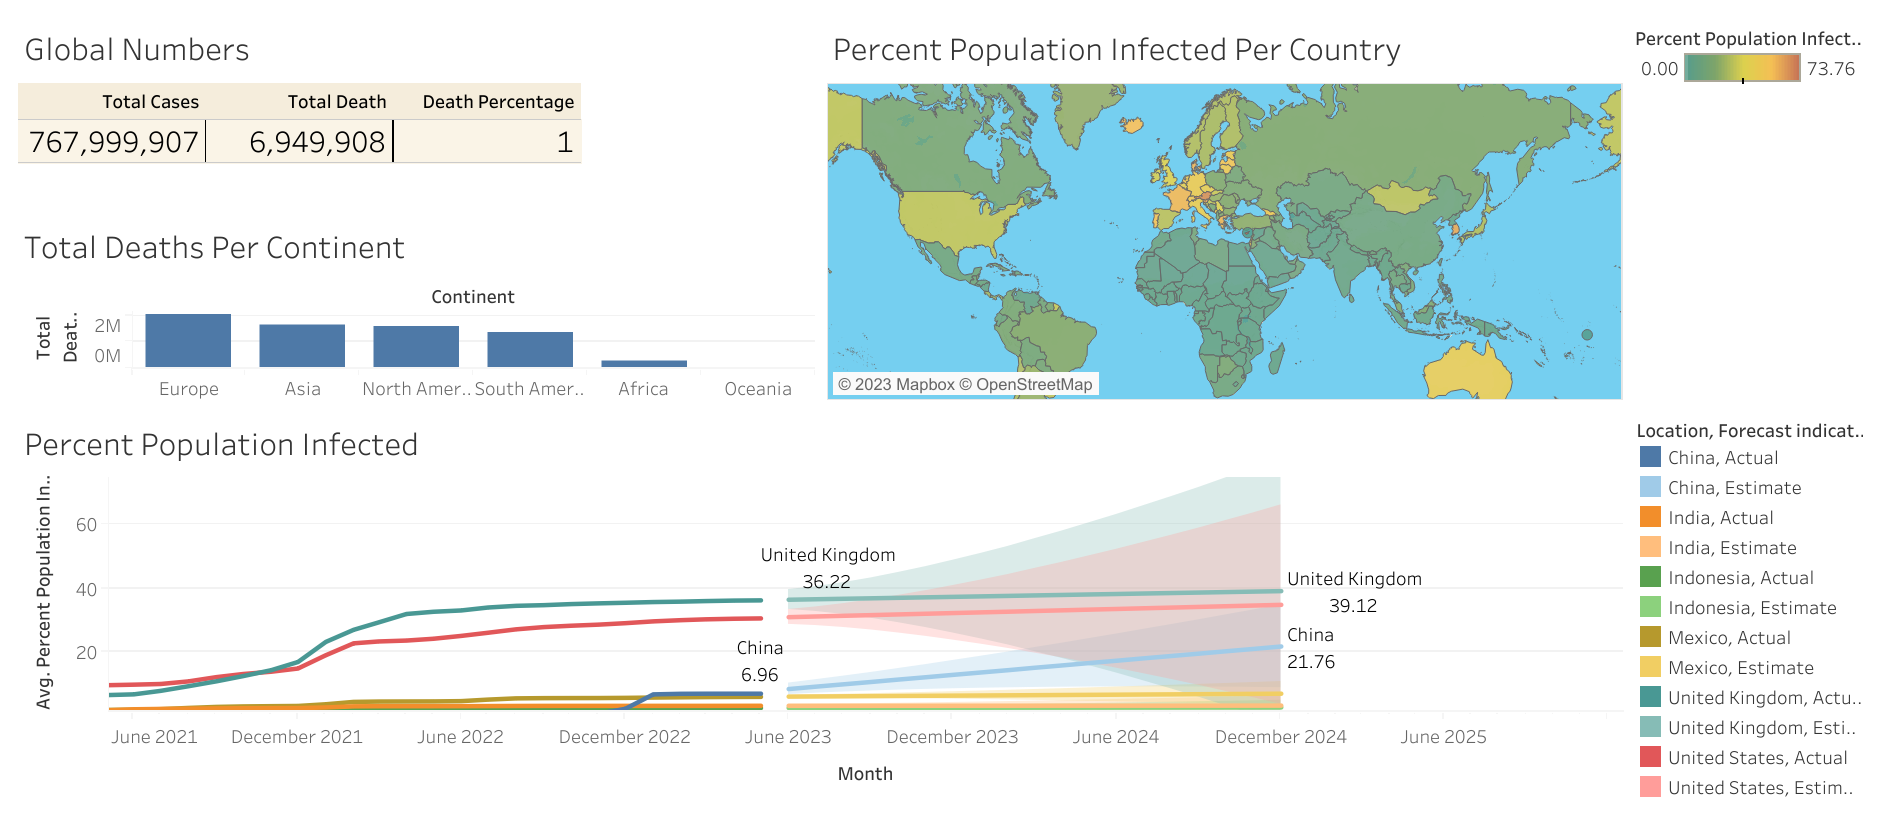

The page's visual inventory and layout, read from the dashboard file:
{"tool":"tableau","page":{"name":"Dashboard 1","canvas":[1000,1000],"units":"permille","ordinal":0},"visuals":[{"type":"worksheet","title":"Sheet 1","mark":"Automatic","box":[7.1,12.5,421.7,243.8]},{"type":"worksheet","title":"Sheet 3","mark":"Automatic","box":[428.8,12.5,421.7,487.5]},{"type":"legend","title":"Sheet 3","param":"[federated.0earaqc0u0s7mg13x11ic0lp50jb].[sum:PercentPopulationInfected:qk]","box":[850.5,12.5,142.3,126.2]},{"type":"worksheet","title":"Sheet 2","mark":"Automatic","rows":["TotalDeathCount"],"cols":["location"],"box":[7.1,256.2,421.7,243.8]},{"type":"worksheet","title":"Sheet 4","mark":"Automatic","rows":["PercentPopulationInfected"],"cols":["date"],"box":[7.1,500,843.4,487.6]},{"type":"legend","title":"Sheet 4","param":"[federated.042jikr1p25ih21h4oecn1re39s8].[none:Location:nk]\n[federated.042jikr1p","box":[850.5,500,142.3,487.6]}]}

Visuals, with their boxes on the dashboard's canvas, which has no fixed pixel size, in thousandths of its width and height (x1, y1, x2, y2). These are canvas units, not pixel positions in the 1880x813 screenshot, which may show the page scaled, cropped or inside an application window:
"Sheet 1" worksheet: l=7, t=12, r=429, b=256
"Sheet 3" worksheet: l=429, t=12, r=850, b=500
"Sheet 3" legend: l=850, t=12, r=993, b=139
"Sheet 2" worksheet: l=7, t=256, r=429, b=500
"Sheet 4" worksheet: l=7, t=500, r=850, b=988
"Sheet 4" legend: l=850, t=500, r=993, b=988
